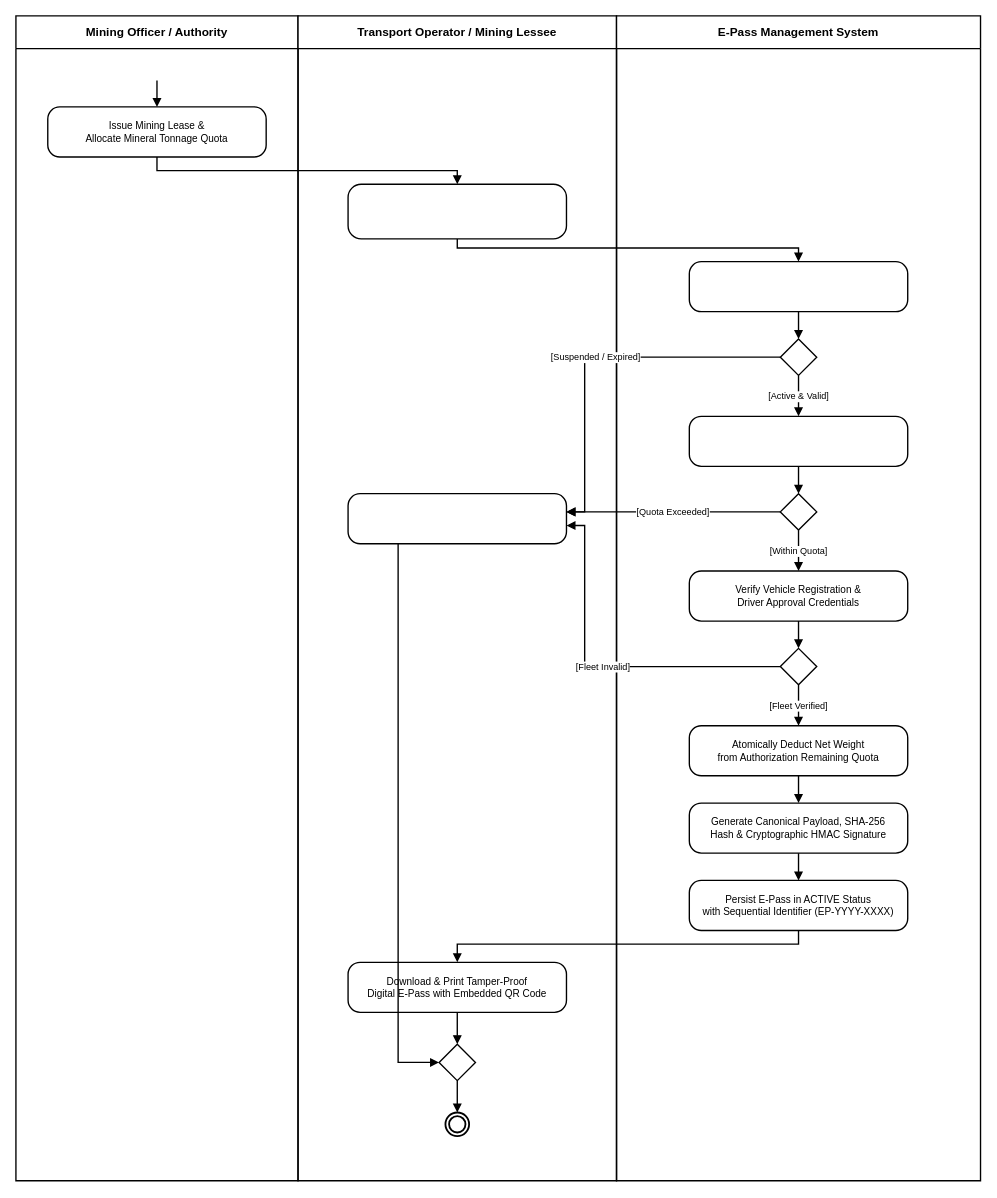
Image size: 997x1198. Some labels were removed from this diagram. The centre of each missing label's shape, as x and y in pixels:
"Check Remaining Quota vs Declared Net Transport Weight" goes at pixel 798 441.
"Receive Rejection Notice & Terminate Request Lifecycle" goes at pixel 457 518.
"Submit Digital E-Pass Request (Vehicle, Driver, Route, Net Weight)" goes at pixel 457 211.
"Validate Mining Authorization Status & Permit Validity Dates" goes at pixel 798 286.
